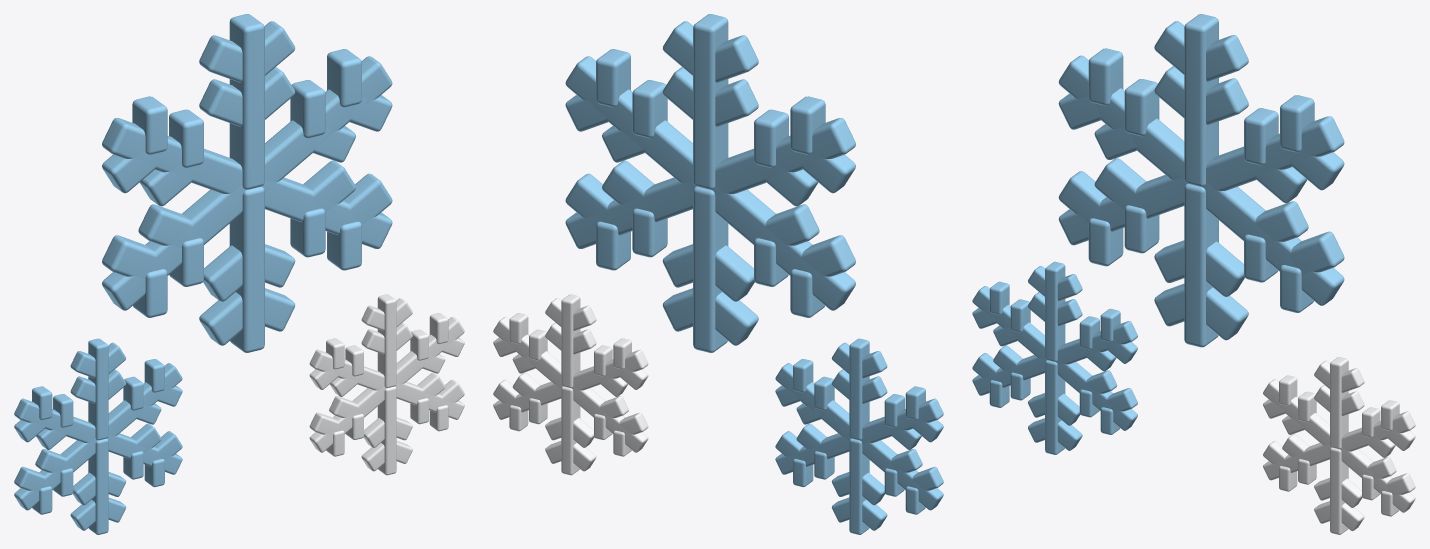
The model's file is snowflakes.glb.
The picture shows the model from 3 angles, left to right: view 1: azimuth 30°, elevation 25°; view 2: azimuth 150°, elevation 25°; view 3: azimuth 330°, elevation 25°; orthographic projection.
Visible parts, largest first — view 1: Ice blue, Porcelain; view 2: Ice blue, Porcelain; view 3: Ice blue, Porcelain.
Boxes of the visible parts, left/top/right/bottom form: Ice blue: left=14, top=14, right=392, bottom=534; Porcelain: left=309, top=294, right=464, bottom=475; Ice blue: left=565, top=14, right=943, bottom=534; Porcelain: left=493, top=294, right=648, bottom=475; Ice blue: left=972, top=14, right=1344, bottom=454; Porcelain: left=1263, top=357, right=1415, bottom=534.
Size of the model in its own units: 2.88 by 3 by 0.1915.
